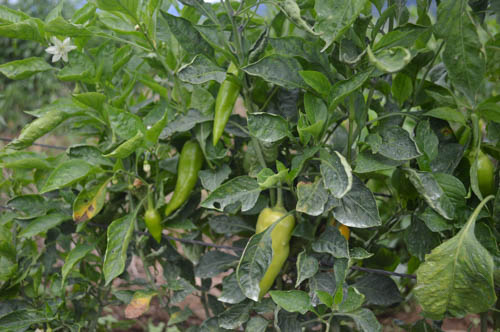ChiliPepper: (251, 207, 292, 308), (163, 143, 201, 220), (211, 65, 244, 147), (144, 211, 166, 244), (470, 155, 492, 188)
